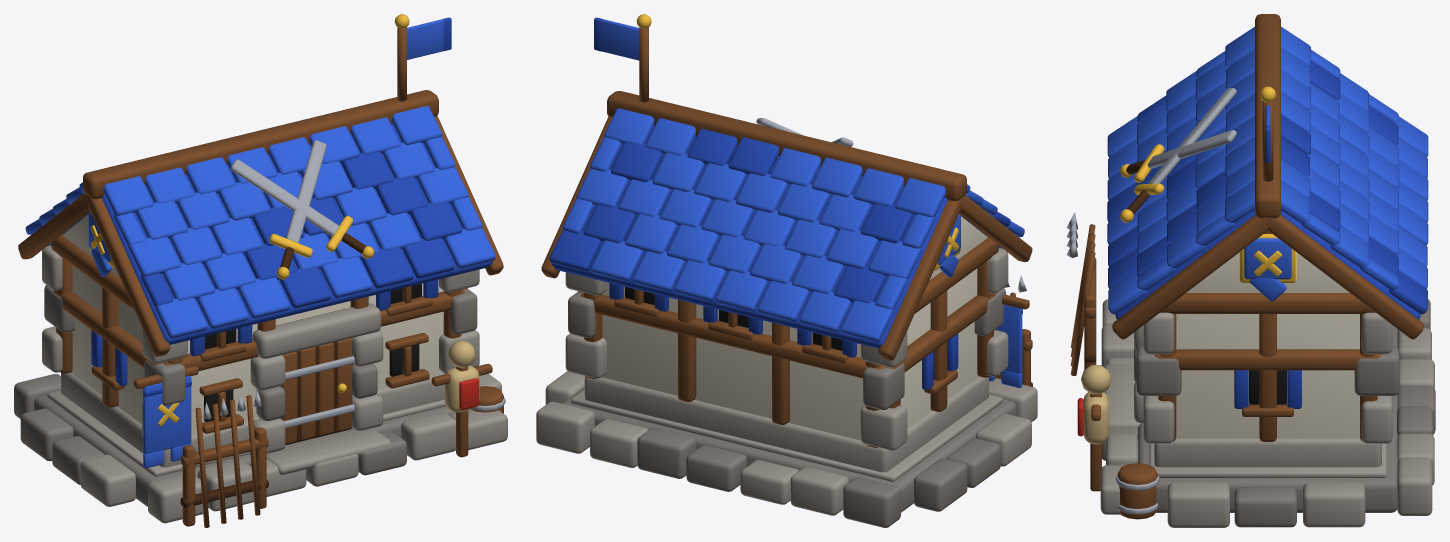
The model's file is Barracks.glb.
The picture shows the model from 3 angles, left to right: view 1: azimuth 30°, elevation 25°; view 2: azimuth 150°, elevation 25°; view 3: azimuth 270°, elevation 25°; orthographic projection. The views are drawn at different scales.
Parts seen in each view (by area): view 1: Barracks; view 2: Barracks; view 3: Barracks.
Part boxes in pixels (box(x1,y1,x2,y2)): Barracks: box(14, 14, 507, 527); Barracks: box(536, 14, 1037, 527); Barracks: box(1066, 14, 1435, 527).
Size of the model in its own units: 4.21 by 3.85 by 3.11.
